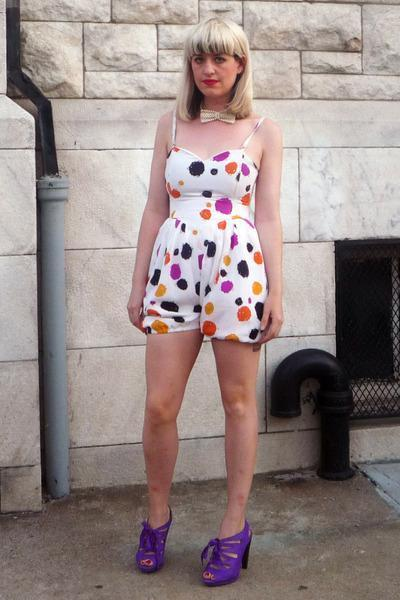dress: (127, 147, 265, 352)
shoe: (136, 516, 251, 586)
